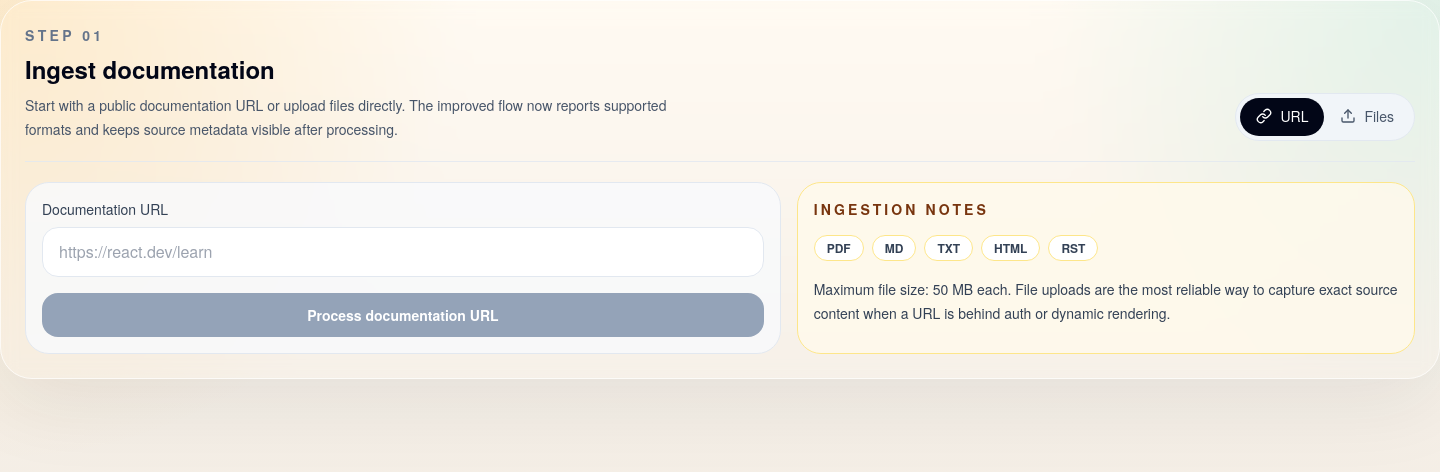
Test case: DocumentUpload Component › Status Messages › should show processing status
The width and height of the screenshot is (1440, 472).
Type "https://example.com" into the field labelled "Documentation URL" at (403, 252), box [42,227,764,277]
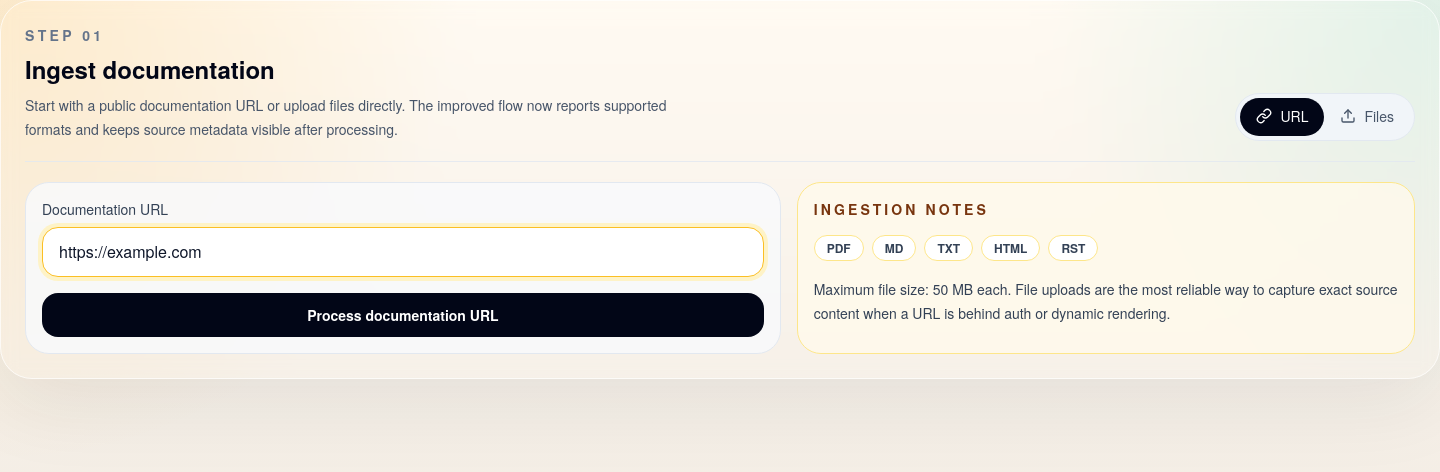
Click the button "Process documentation URL" at (403, 315), box [42,293,764,337]
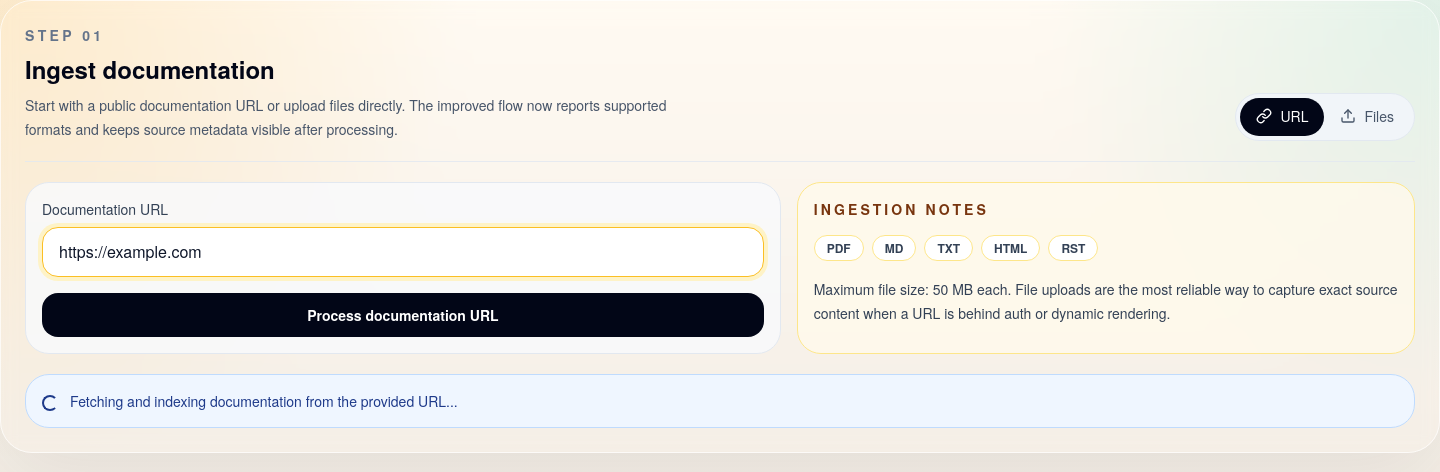
Now the text "Fetching and indexing documentation from the provided URL..." is shown, box [70,391,458,411]
